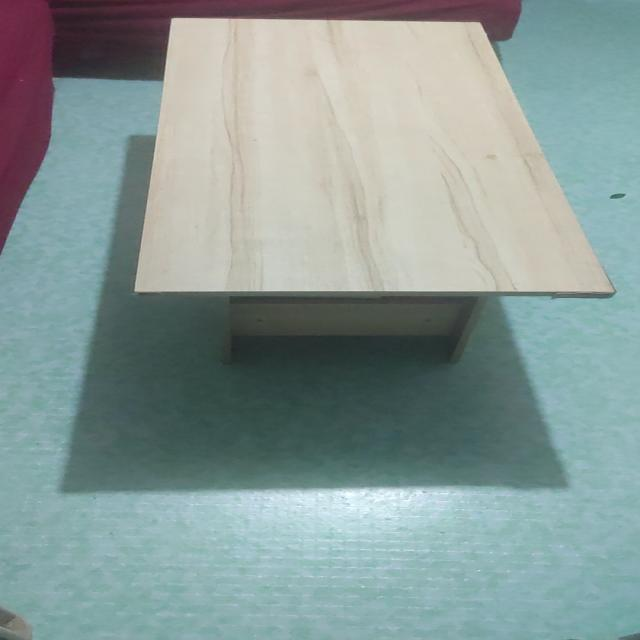table: (124, 16, 613, 386)
